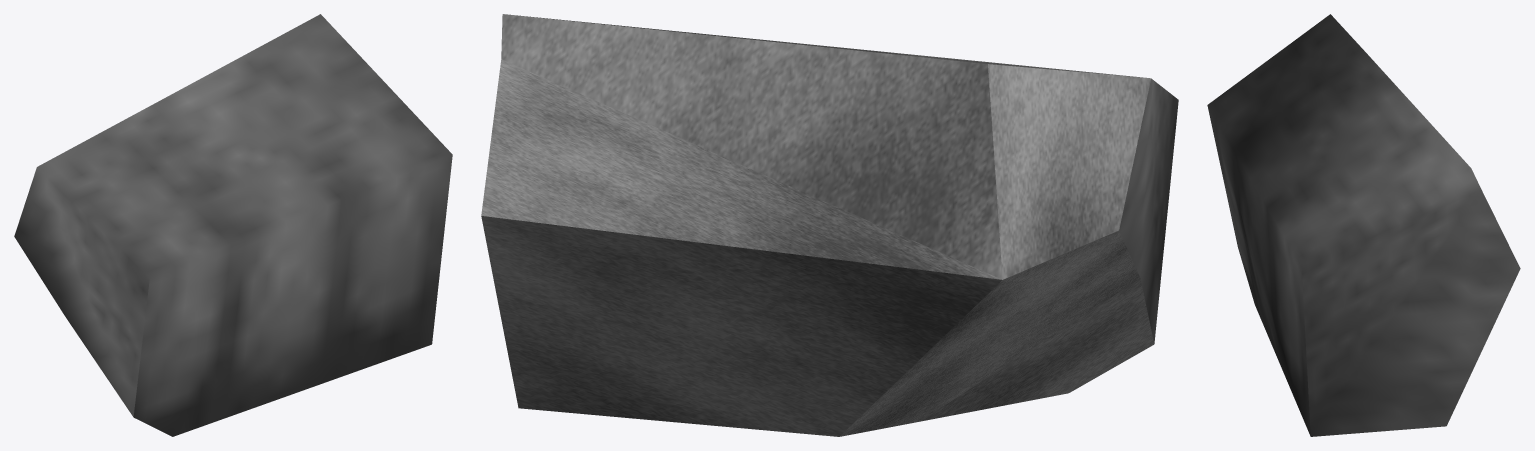
File: leg_4_cell_010.fbx
3 renders of one model, left to right at view 1: azimuth 30°, elevation 25°; view 2: azimuth 150°, elevation 25°; view 3: azimuth 270°, elevation 25°, orthographic. The views are drawn at different scales.
Visible parts, largest first — view 1: leg_4_cell.010; view 2: leg_4_cell.010; view 3: leg_4_cell.010.
Part boxes in pixels (x1,y1,x2,y2): leg_4_cell.010: (14,14,452,436); leg_4_cell.010: (481,14,1178,436); leg_4_cell.010: (1207,14,1520,436).
Bounding box in the file's own units: 19.63 × 12.82 × 14.16.
